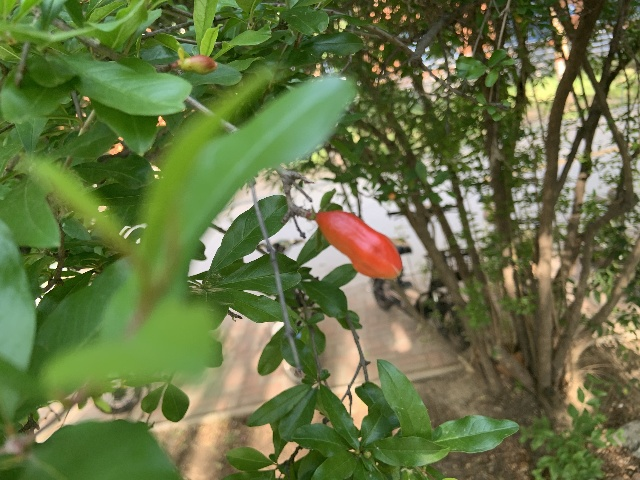bud: (315, 209, 402, 280)
